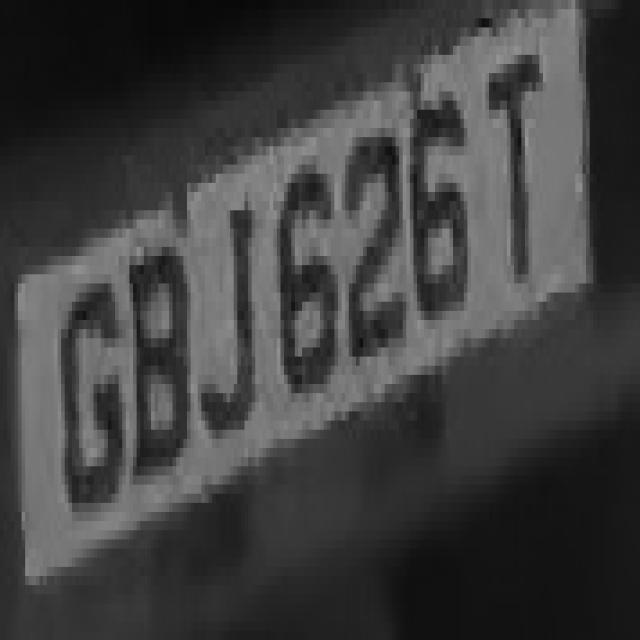2: (323, 119, 402, 356)
6: (277, 128, 338, 439), (406, 82, 475, 348)
B: (119, 228, 198, 503)
G: (51, 256, 122, 530)
J: (194, 174, 263, 466)
T: (478, 64, 558, 329)
